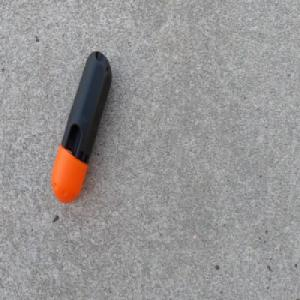PlasticPart: (50, 50, 112, 205)
